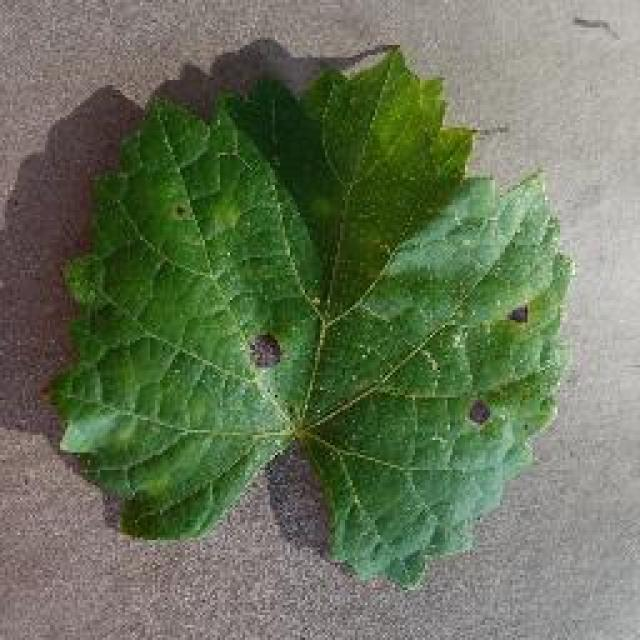Grape___Black_rot: (38, 44, 579, 596)
